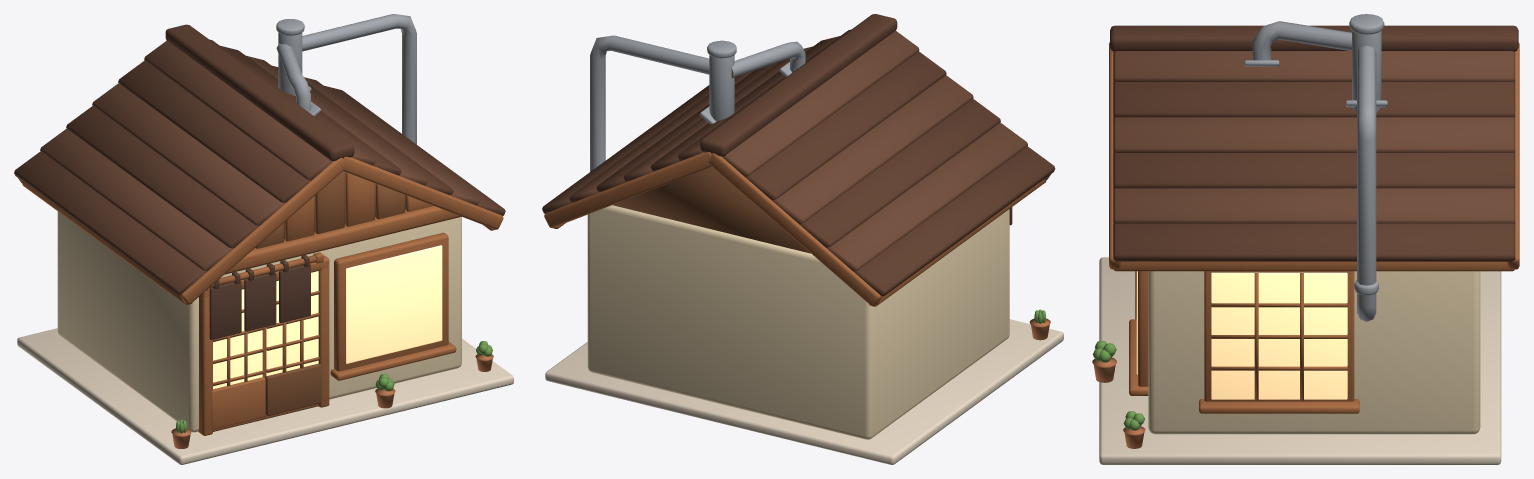
The model's file is okonomiyaki.glb.
3 renders of one model, left to right at view 1: azimuth 30°, elevation 25°; view 2: azimuth 150°, elevation 25°; view 3: azimuth 270°, elevation 25°, orthographic. The views are drawn at different scales.
Parts seen in each view (by area): view 1: okonomiyaki; view 2: okonomiyaki; view 3: okonomiyaki.
Part boxes in pixels (x1,y1,x2,y2): okonomiyaki: [14, 14, 513, 464]; okonomiyaki: [542, 14, 1063, 464]; okonomiyaki: [1092, 14, 1519, 464].
Size of the model in its own units: 2.8 by 2.38 by 2.45.
